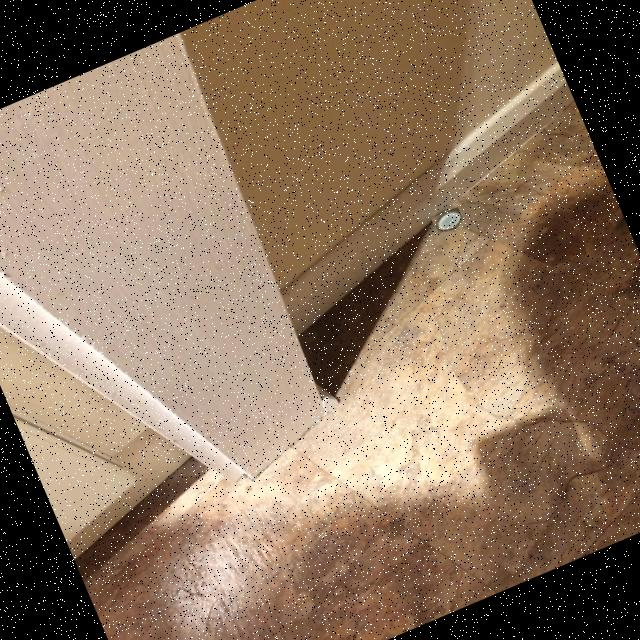Metal bottle cap: (436, 209, 462, 230)
